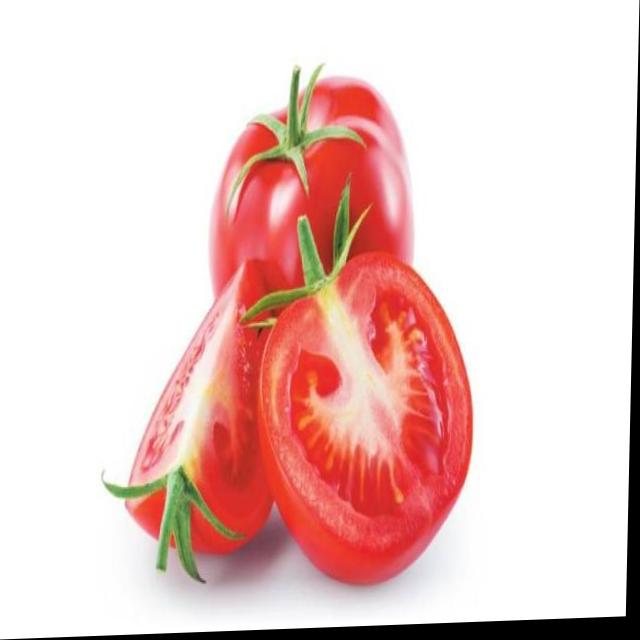kirmizi: (112, 62, 479, 576)
